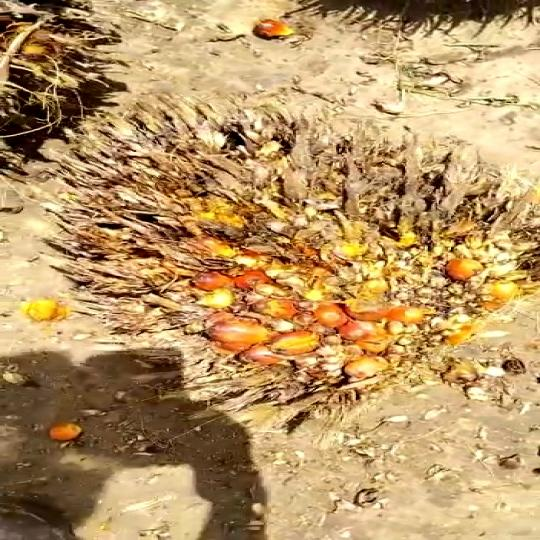terlalu masak: (30, 91, 540, 423)
